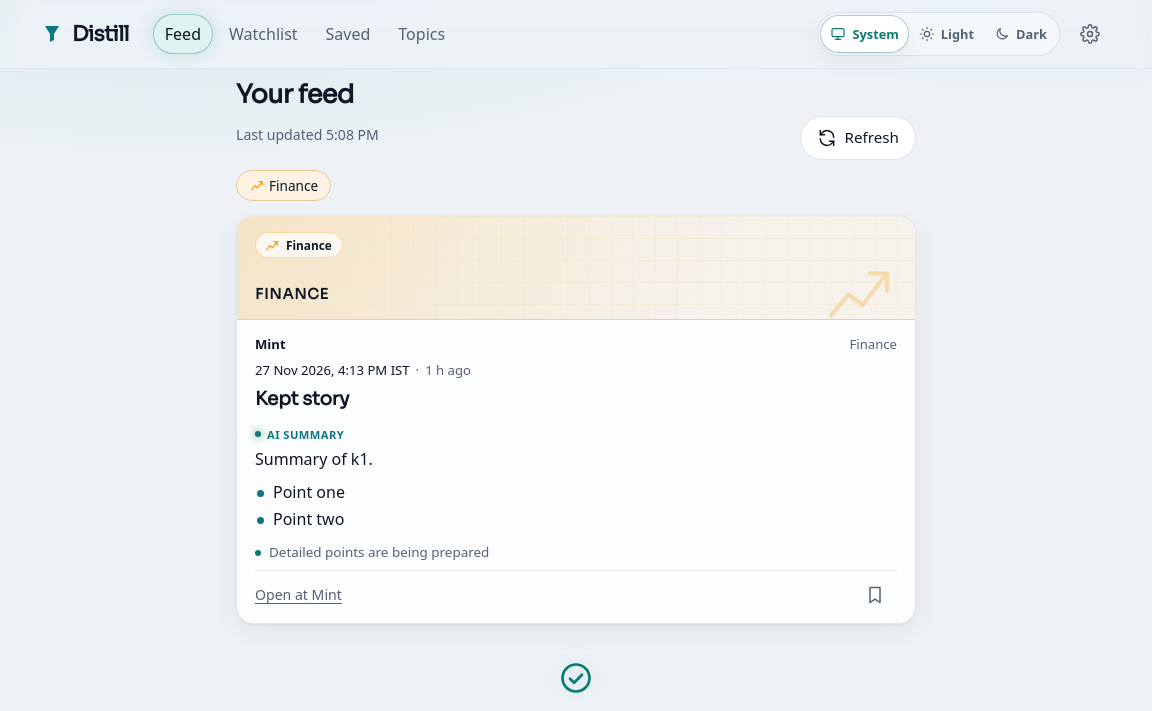
US-8: Published times and a feed that stays fresh (CR-0004) › AC-8.5: stories the AI already judged are sent as known, so they don't go to the AI again
This screenshot has width=1152, height=711.
Later steps or results of the test are not shown.
Click the button "Refresh": (858, 138) [800,116,916,160]
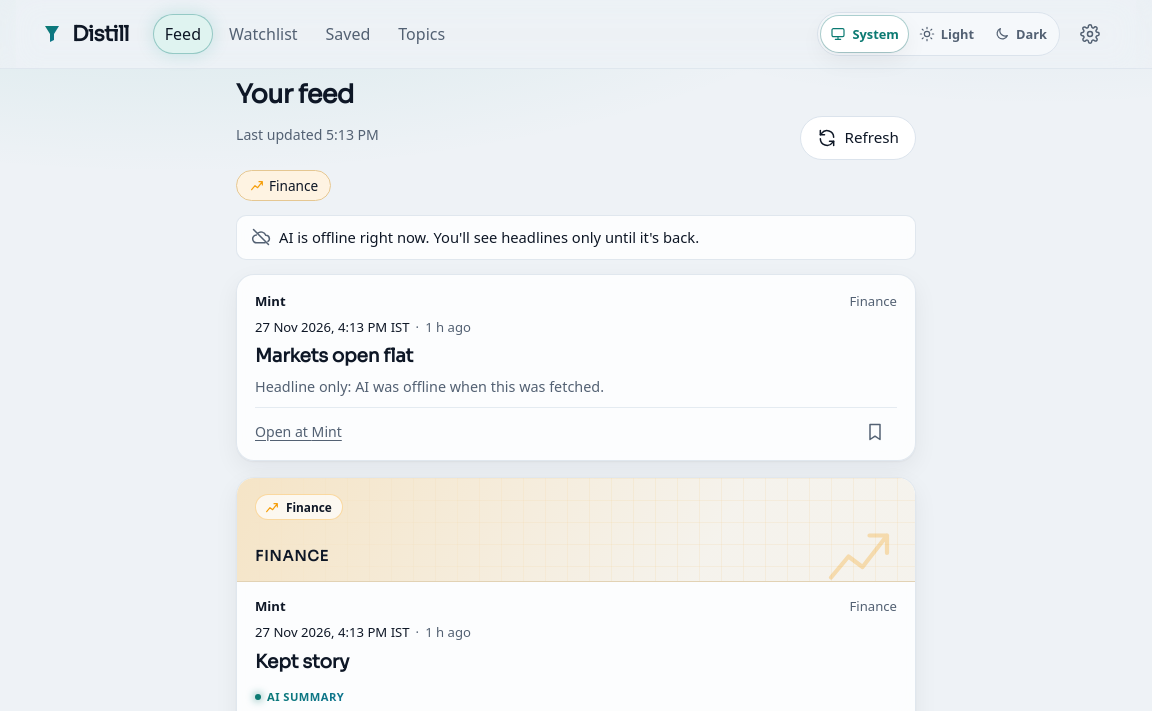
Expected: the link "Markets open flat" is shown, [255,344,413,367]
